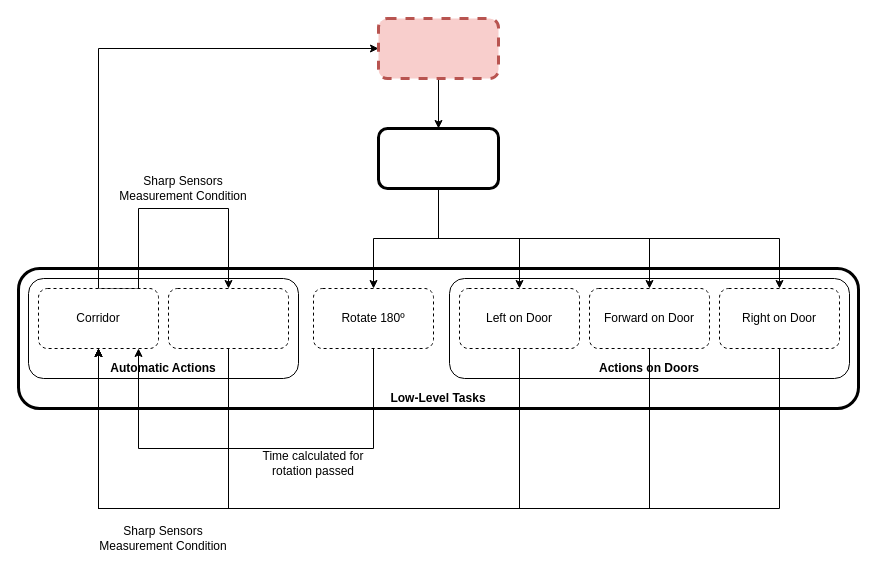
The diagram is 877 pixels wide and 570 high, and some of its shapes have lost their labels. The shapes that lost their labels are listed below. From the top down, each one's centre as x and y in pixels, then its label:
At (438,48): "Vision System".
At (438,158): "High-Level Agent".
At (228,318): "Corner Left/Right".
